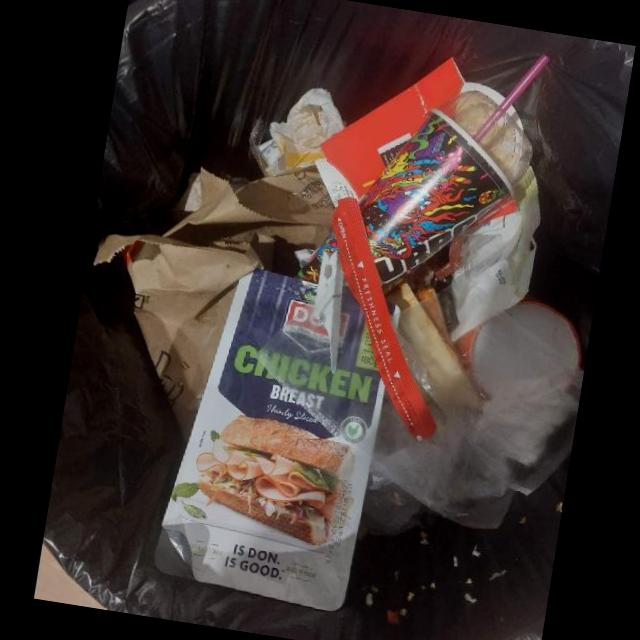bao_bi_thuc_pham: (154, 270, 385, 613)
carton: (357, 104, 516, 302), (321, 57, 466, 204)
giay: (92, 168, 335, 445), (451, 167, 543, 342), (257, 87, 345, 178)
hop_nhua: (428, 91, 533, 201)
ong_hut_nhua: (472, 54, 552, 143)
tui_ni_long: (389, 287, 583, 497), (358, 367, 516, 542)
